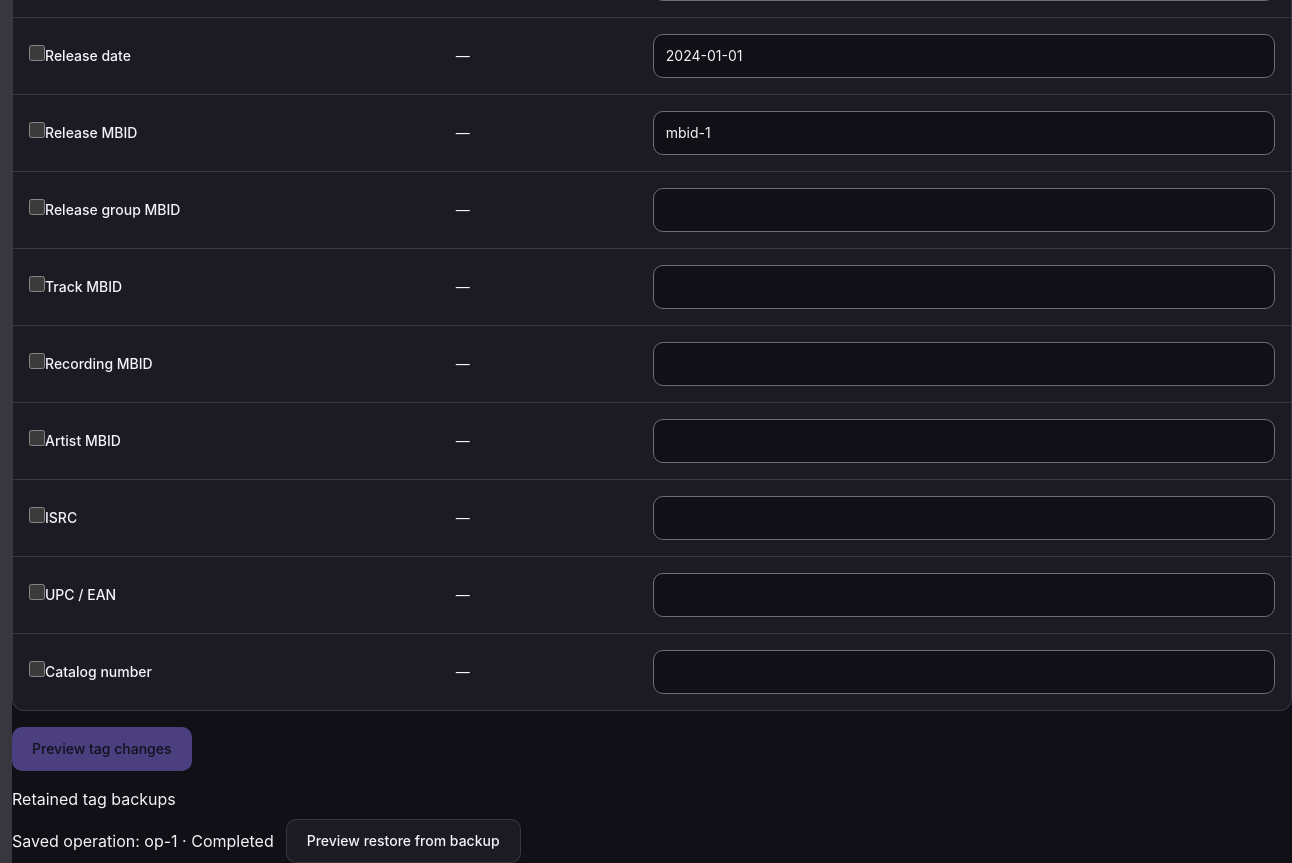
discards leased previews on unmount and restores persisted backups after reopening
The image size is (1292, 863).
(page scrolled)
Expected: the text "Saved operation: op-1 · Completed" is shown, [12,828,274,852]
Click the button "Preview restore from backup".
click(403, 840)  # box [286,818,521,862]
(page scrolled)
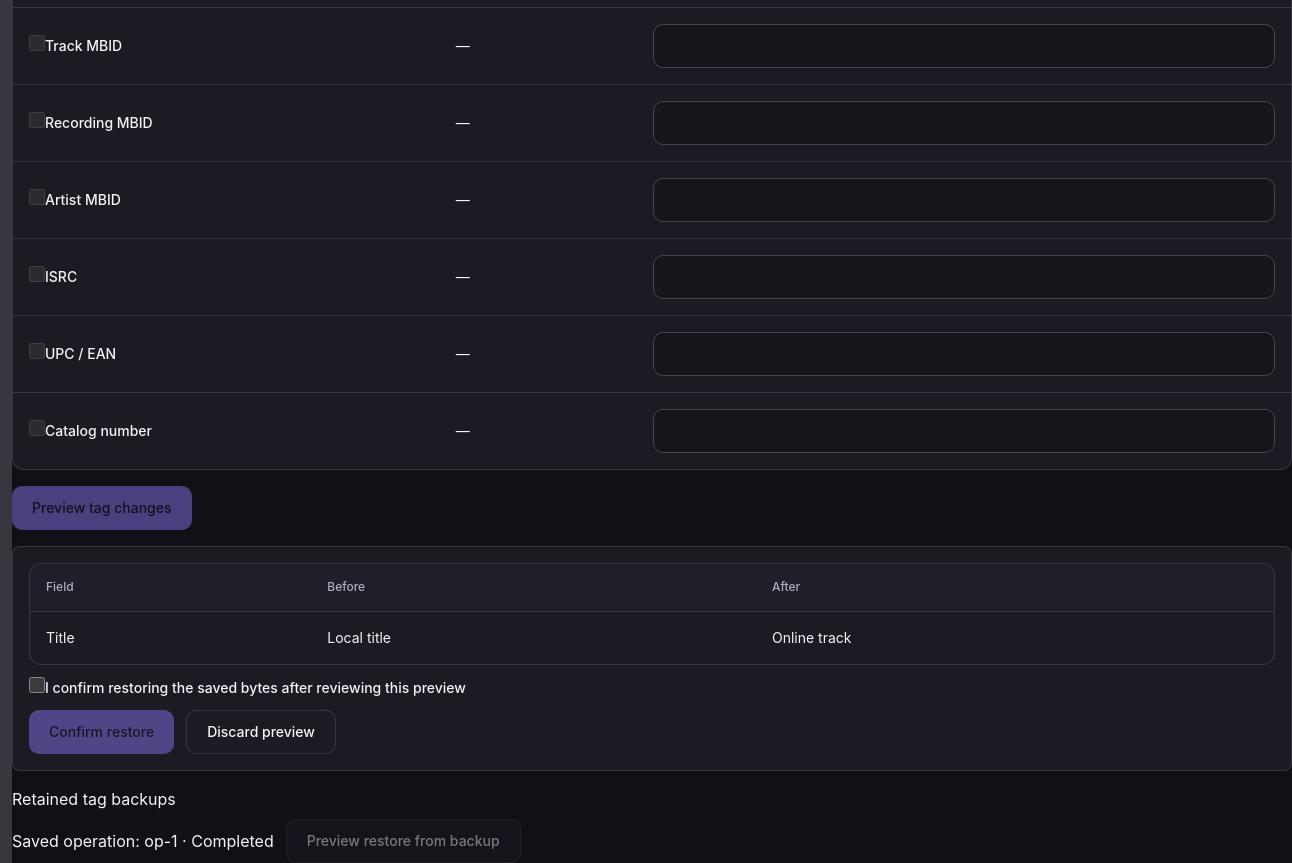
Expected: the button "Confirm restore" is shown, [29,710,174,754]
